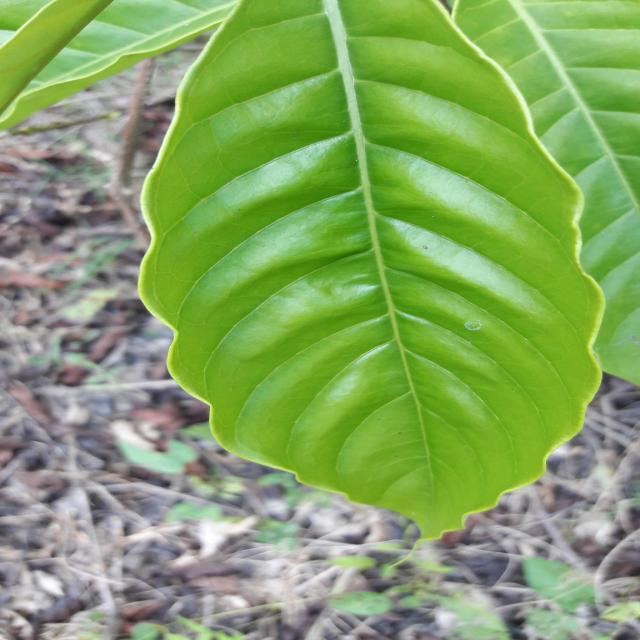Sanas: (137, 0, 609, 543)
